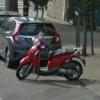Car: (2, 10, 62, 68)
